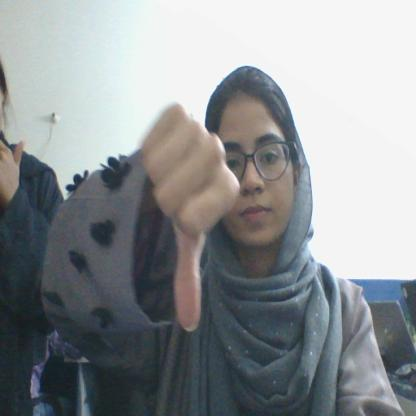thumbs-down: (140, 102, 254, 340)
